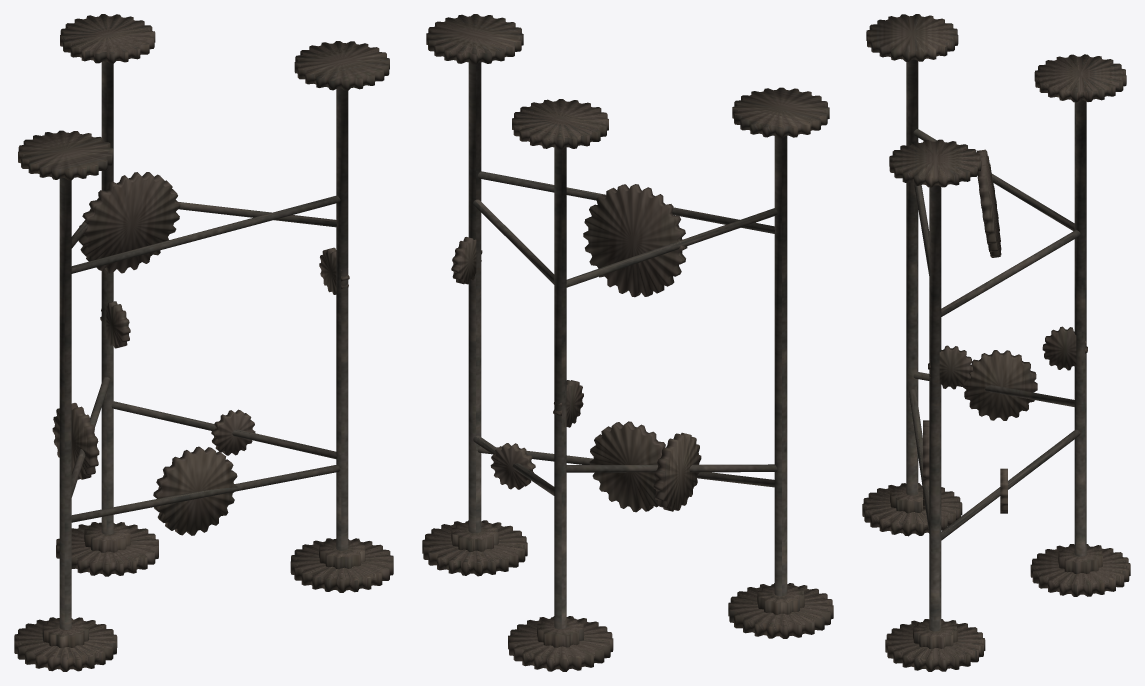
Rendered from escultura-esc-055.glb.
3 views of the same model, side by side, from view 1: azimuth 30°, elevation 25°; view 2: azimuth 150°, elevation 25°; view 3: azimuth 270°, elevation 25° (orthographic). The views are drawn at different scales.
Parts seen in each view (by area): view 1: world; view 2: world; view 3: world.
Part boxes in pixels (x1=…): world: x1=14, y1=14, x2=393, y2=671; world: x1=422, y1=14, x2=833, y2=671; world: x1=862, y1=14, x2=1130, y2=671.
Bounding box in the file's own units: 0.9127 × 1.2 × 0.5814.
1 material, 1 textured.
